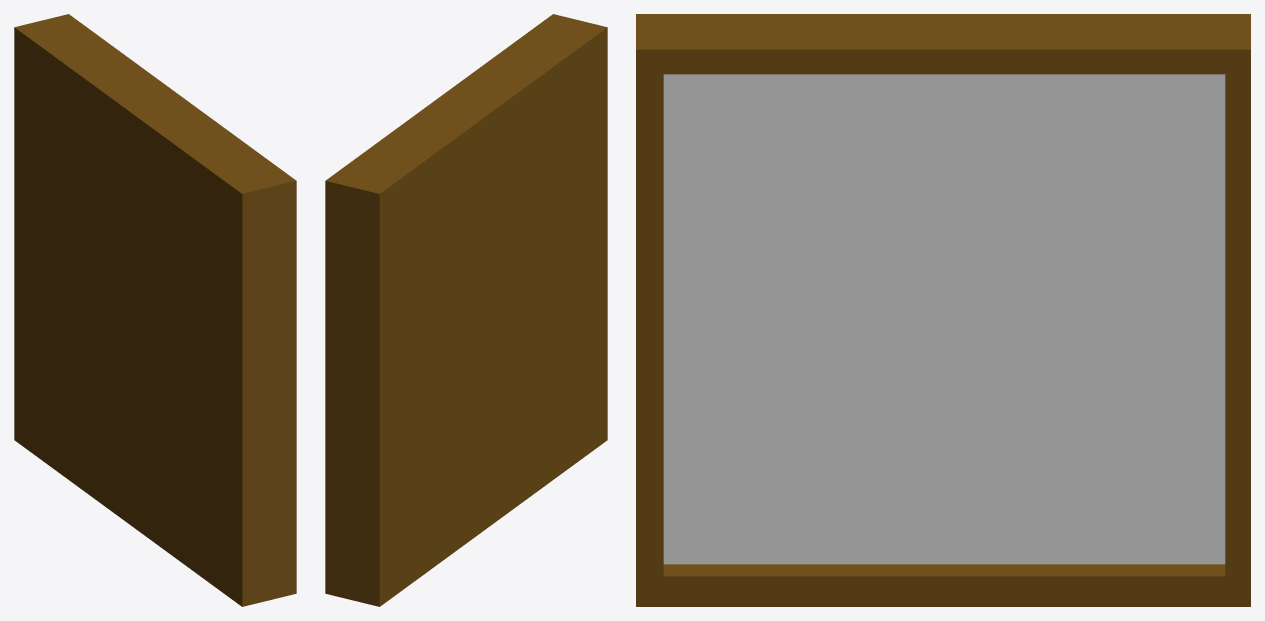
The model's file is CorkBoard.fbx.
The picture shows the model from 3 angles, left to right: view 1: azimuth 30°, elevation 25°; view 2: azimuth 150°, elevation 25°; view 3: azimuth 270°, elevation 25°; orthographic projection. The views are drawn at different scales.
Visible parts, largest first — view 1: Cube; view 2: Cube; view 3: Cube.
Part boxes in pixels (x1=…): Cube: x1=14, y1=14, x2=296, y2=606; Cube: x1=325, y1=14, x2=607, y2=606; Cube: x1=636, y1=14, x2=1250, y2=606.
Bounding box in the file's own units: 137 × 993 × 993.
